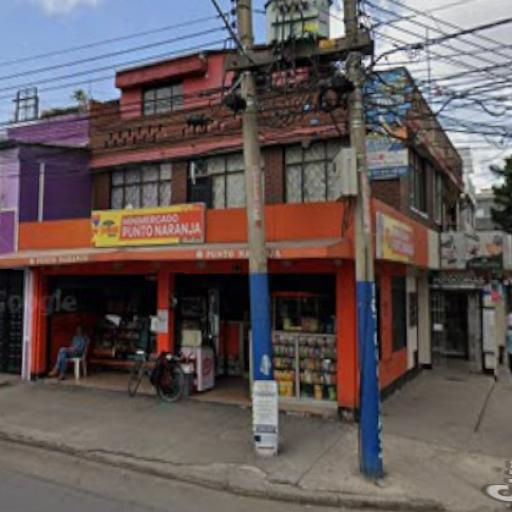poste: (331, 0, 390, 472), (222, 0, 282, 455)
